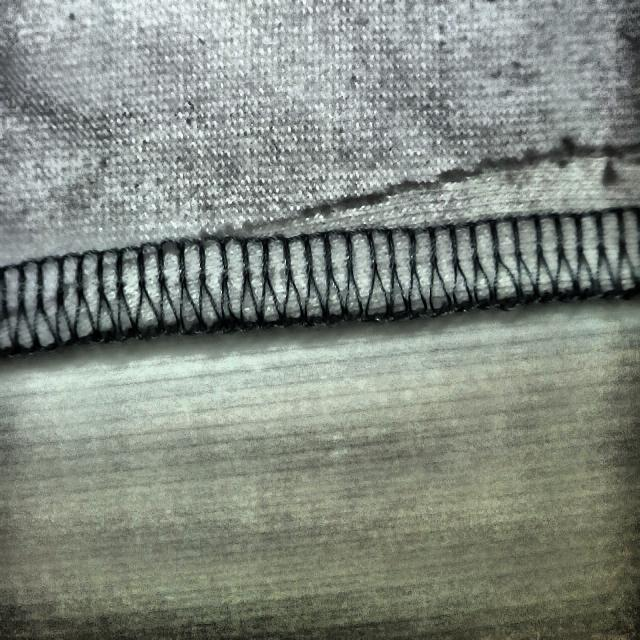gray stitch: (241, 131, 640, 329)
